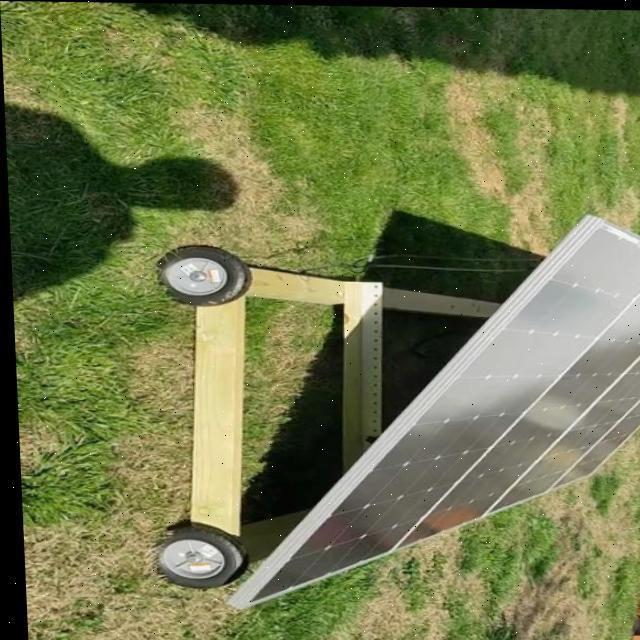Normal Solar Panel: (218, 215, 640, 612)
